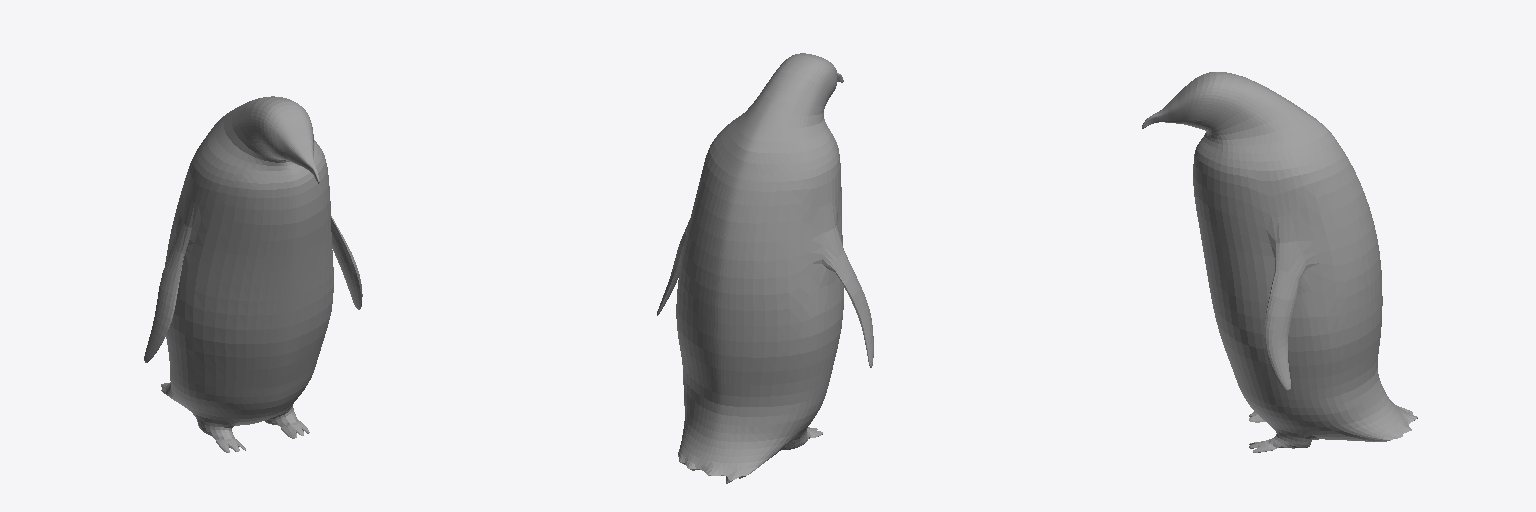
Rendered from PenguinBaseMesh.obj.
3 renders of one model, left to right at view 1: azimuth 30°, elevation 25°; view 2: azimuth 150°, elevation 25°; view 3: azimuth 270°, elevation 25°, orthographic.
Visible parts, largest first — view 1: Penguin_Cylinder; view 2: Penguin_Cylinder; view 3: Penguin_Cylinder.
Boxes of the visible parts, box(x1,y1,x2,y2) form: Penguin_Cylinder: box(144, 96, 362, 452); Penguin_Cylinder: box(657, 53, 873, 483); Penguin_Cylinder: box(1142, 72, 1417, 452).
Size of the model in its own units: 39.38 by 62.4 by 43.87.